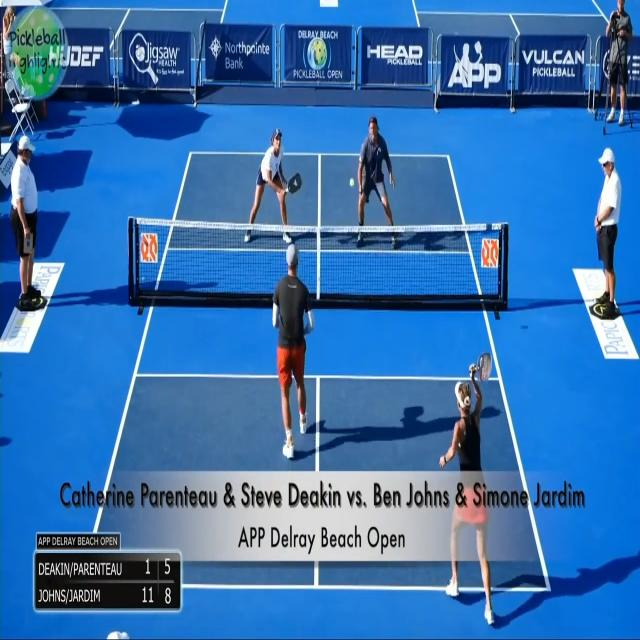ball: (346, 173, 360, 199)
